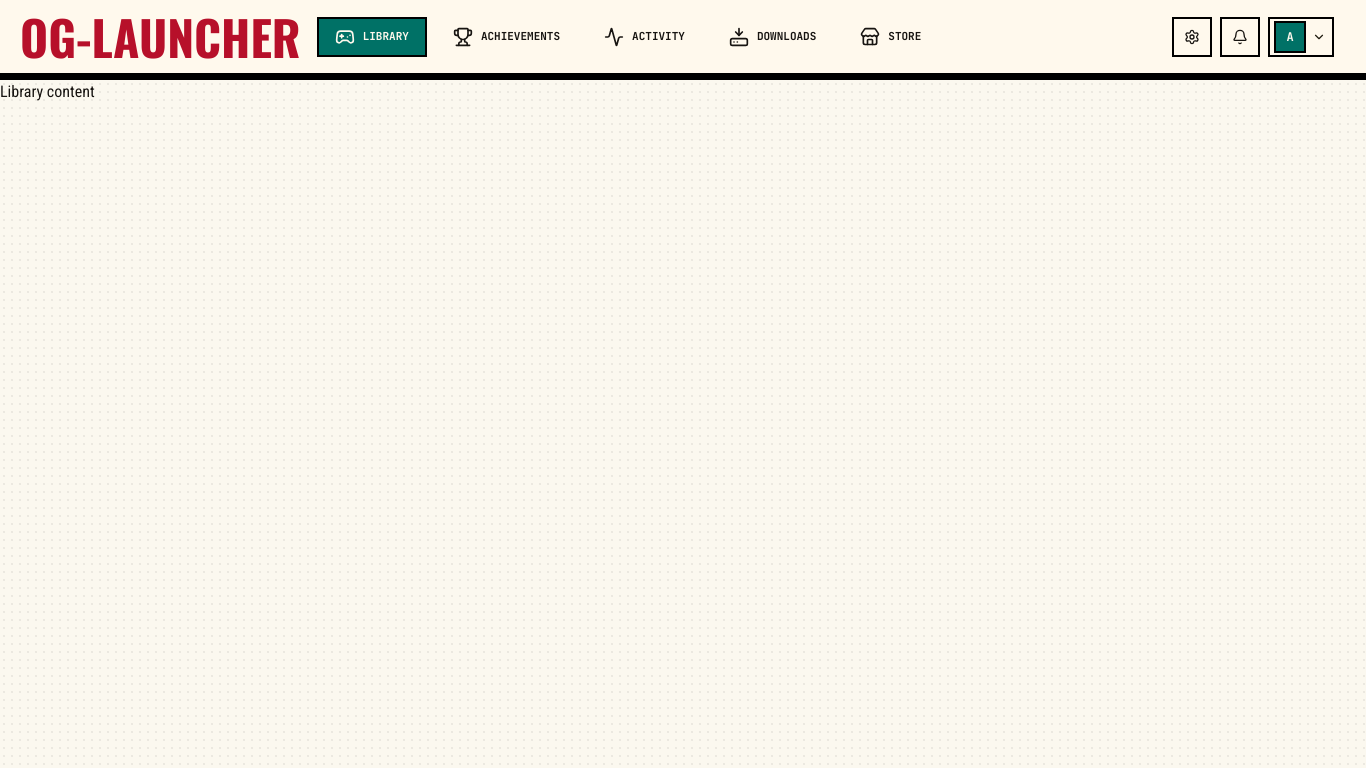
Scenario: AppShell browser-local shell skins › shows an honest empty notification feed without invented account events
Click the button named "Notifications": (1240, 36) [1220, 16, 1260, 56]
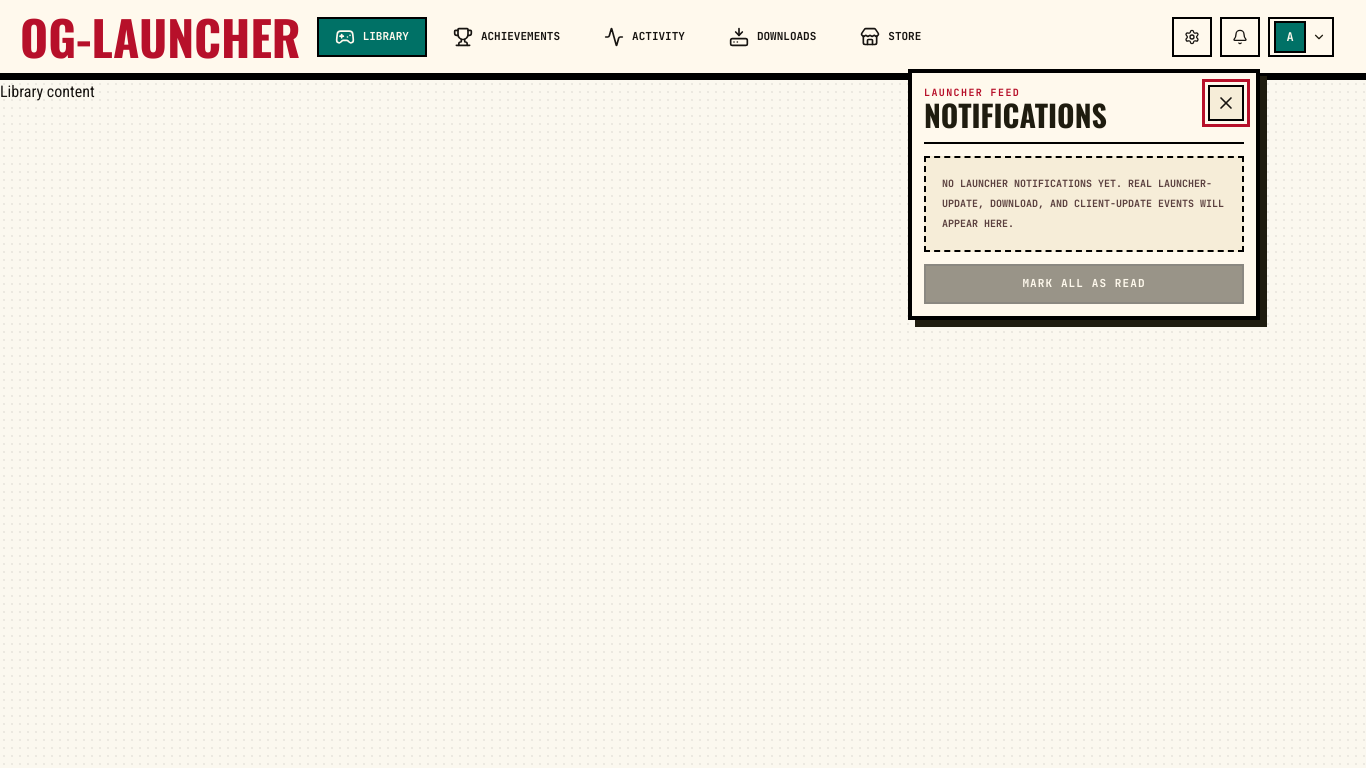
Now the text "No launcher notifications yet" is shown, box [942, 176, 1224, 230]
